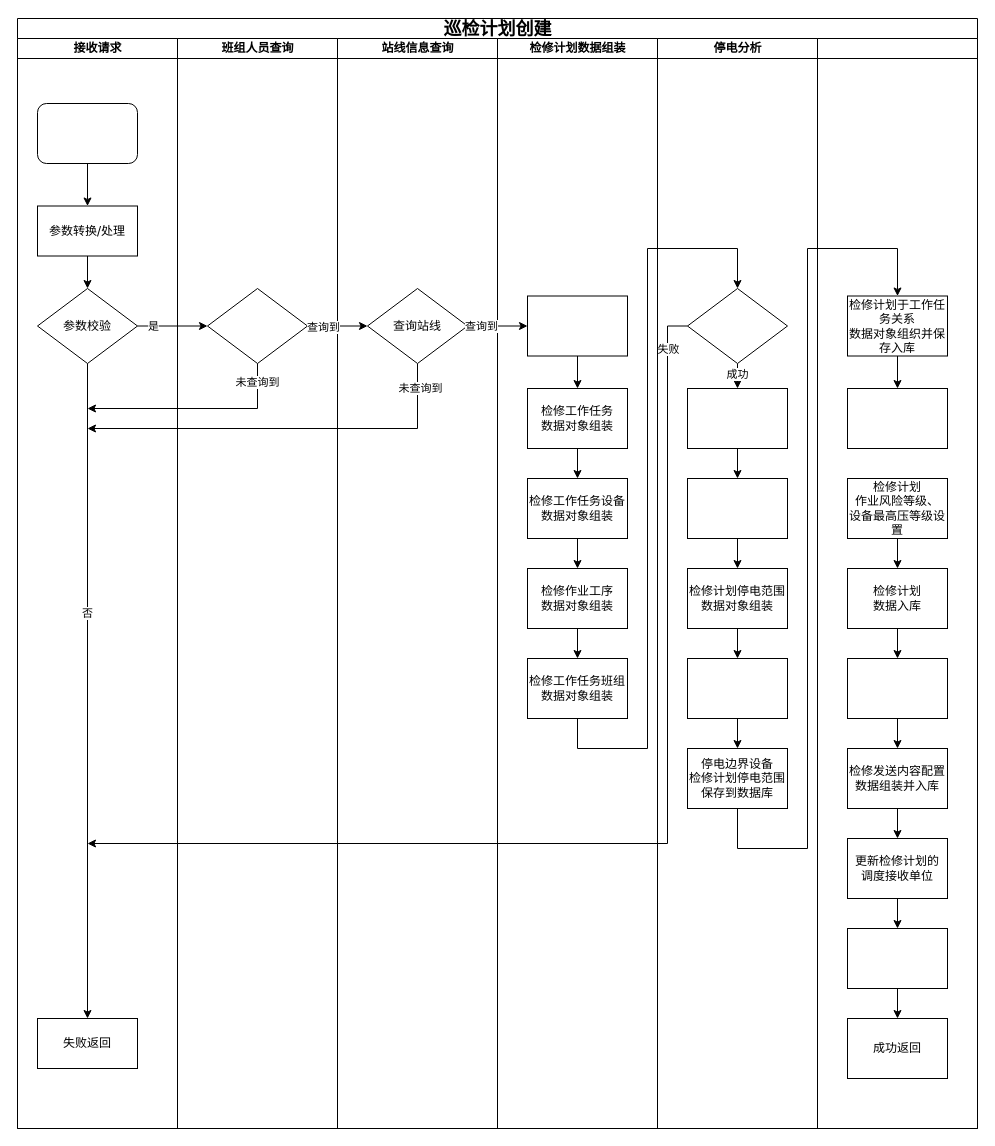
Image size: 995x1146. Some labels were removed from this diagram. Here are the shapes that lost their labels. From the top down, the box of each, then its label:
(36, 102, 138, 164): 开始
(206, 288, 308, 364): 查询班组人员
(526, 295, 628, 356): 检修计划 数据对象组装
(686, 288, 788, 364): 调用中台接口 分析供电范围
(686, 388, 788, 448): 停电范围分析
(846, 388, 948, 448): 检修工作任务班组 检修作业工序 检修工作任务设备 数据入库
(686, 478, 788, 538): 停电边界设备 数据对象组装
(816, 38, 978, 1128): 数据完善并保存
(686, 658, 788, 718): 设置 检修计划停电范围 的调度接收单位
(846, 658, 948, 718): 检修站线 数据组装并入库
(846, 928, 948, 988): 检修扩展属性 数据组装并入库
